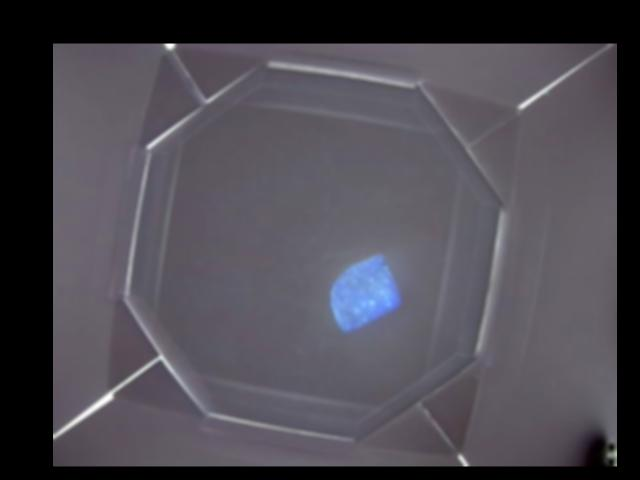Potato: (332, 254, 401, 329)
